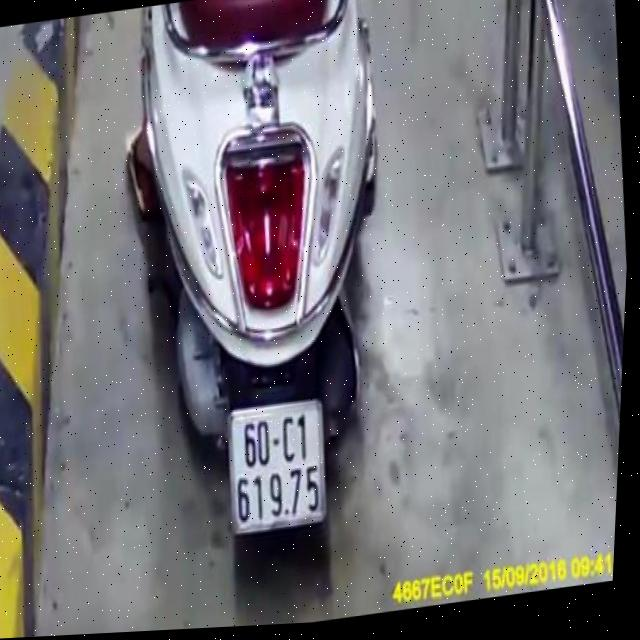motorcycle: (106, 0, 427, 581)
plate: (216, 395, 338, 540)
